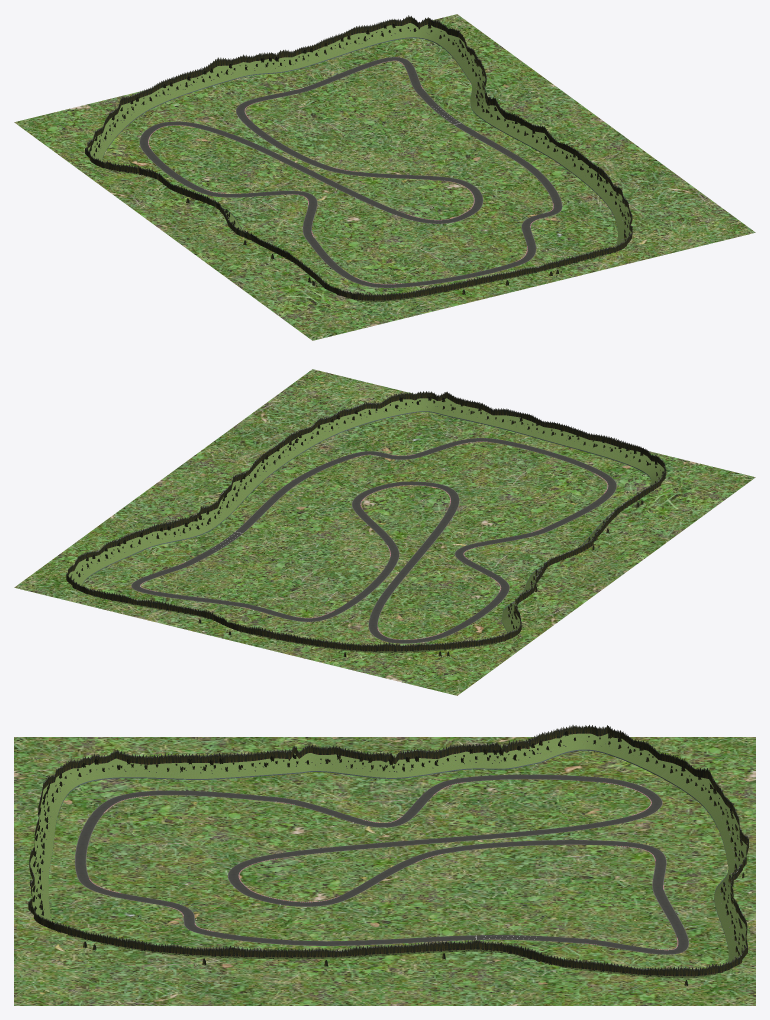
3 renders of one model, top to bottom at view 1: azimuth 30°, elevation 25°; view 2: azimuth 150°, elevation 25°; view 3: azimuth 270°, elevation 25°, orthographic. The views are drawn at different scales.
Parts seen in each view (by area): view 1: Plane, RaceTrack_Wall_00, RaceTrack_Main_00, RaceTrack_Trees_00; view 2: Plane, RaceTrack_Wall_00, RaceTrack_Main_00, RaceTrack_Trees_00; view 3: Plane, RaceTrack_Wall_00, RaceTrack_Main_00, RaceTrack_Trees_00, RaceTrack_Curbs_00.
Boxes of the visible parts, x1,y1,x2,y2 form: Plane: [14, 14, 755, 340]; RaceTrack_Wall_00: [85, 15, 632, 302]; RaceTrack_Main_00: [139, 57, 562, 287]; RaceTrack_Trees_00: [89, 23, 630, 301]; Plane: [14, 369, 755, 695]; RaceTrack_Wall_00: [66, 391, 666, 652]; RaceTrack_Main_00: [131, 438, 616, 643]; RaceTrack_Trees_00: [70, 396, 664, 656]; Plane: [14, 737, 755, 1005]; RaceTrack_Wall_00: [28, 725, 748, 978]; RaceTrack_Main_00: [74, 774, 688, 954]; RaceTrack_Trees_00: [30, 731, 745, 985]; RaceTrack_Curbs_00: [89, 782, 678, 950].
Bounding box in the file's own units: 900 × 37.03 × 1050.
